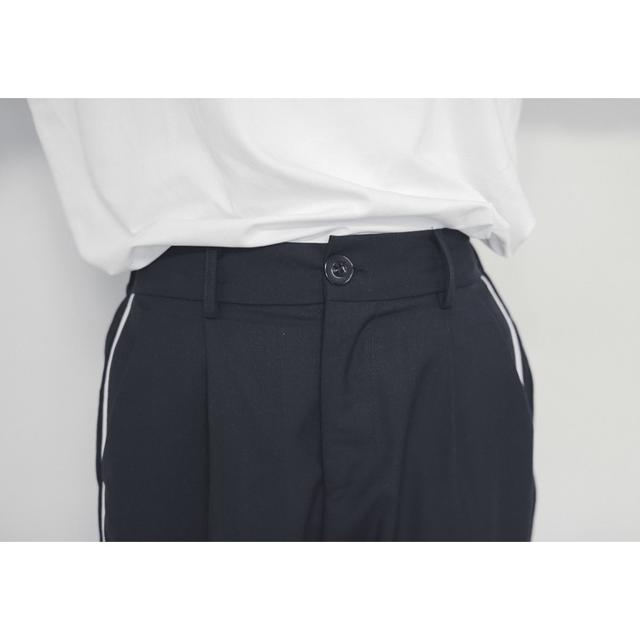Pants_Leggings: (103, 245, 539, 547)
